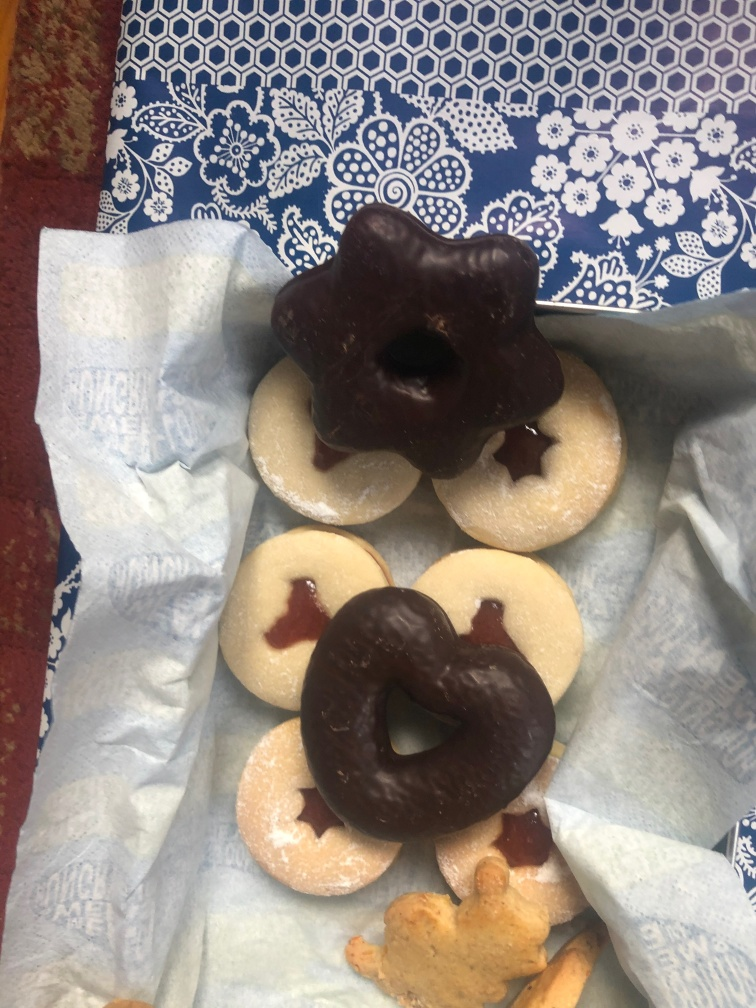christmas shortbread with jam: (432, 346, 624, 552), (236, 717, 399, 903), (251, 354, 421, 529), (224, 527, 387, 709), (415, 546, 585, 702)
heart: (296, 585, 560, 838)
santa claus: (344, 854, 555, 1008)
star: (271, 198, 574, 493)
